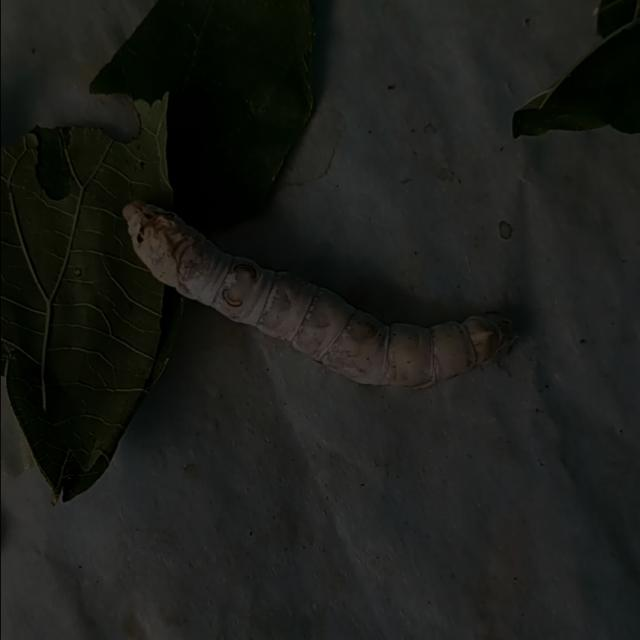Grasserie: (104, 165, 553, 418)
